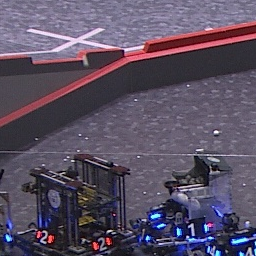Blue: (176, 222, 211, 239), (138, 227, 151, 242), (206, 244, 221, 256), (238, 247, 256, 256)
Red: (34, 228, 55, 246), (90, 237, 113, 251)
Robot: (20, 152, 138, 256), (137, 148, 240, 254), (188, 212, 256, 256)
